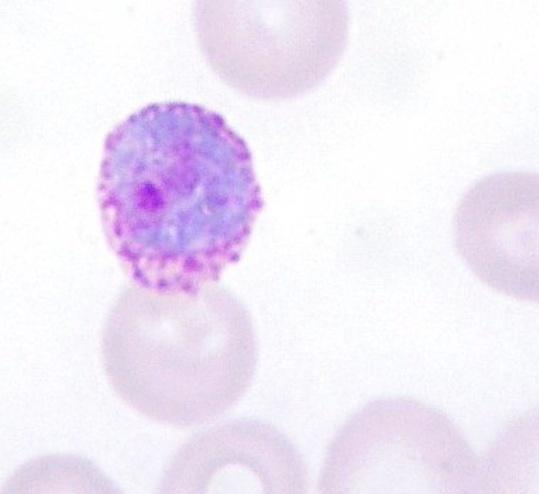Infected: (97, 101, 261, 291)
Uninfected: (104, 279, 261, 427)
